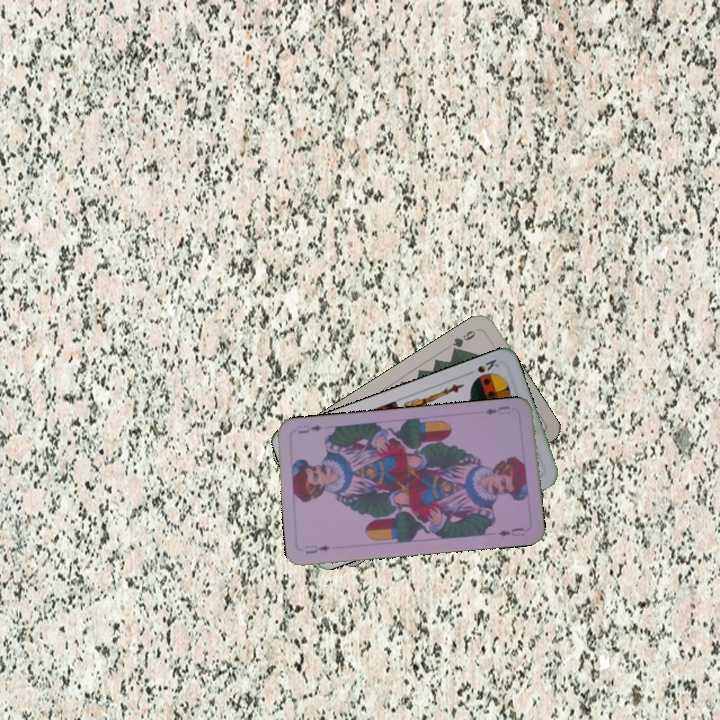EU: (481, 402, 513, 417), (301, 541, 332, 556)
G9: (448, 324, 481, 355)
SK: (473, 355, 501, 375)
